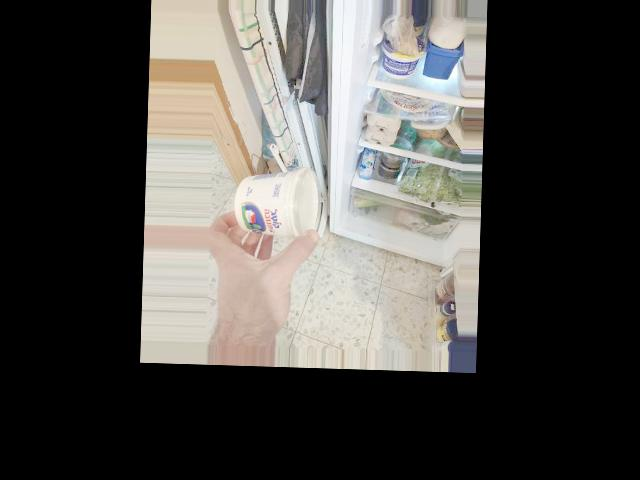cotage: (230, 165, 320, 243)
